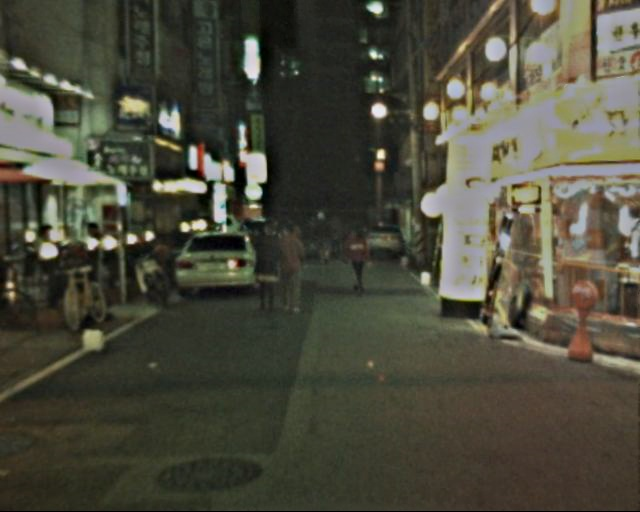person: (275, 224, 314, 325), (251, 224, 285, 325), (346, 224, 375, 293), (311, 207, 338, 270)
